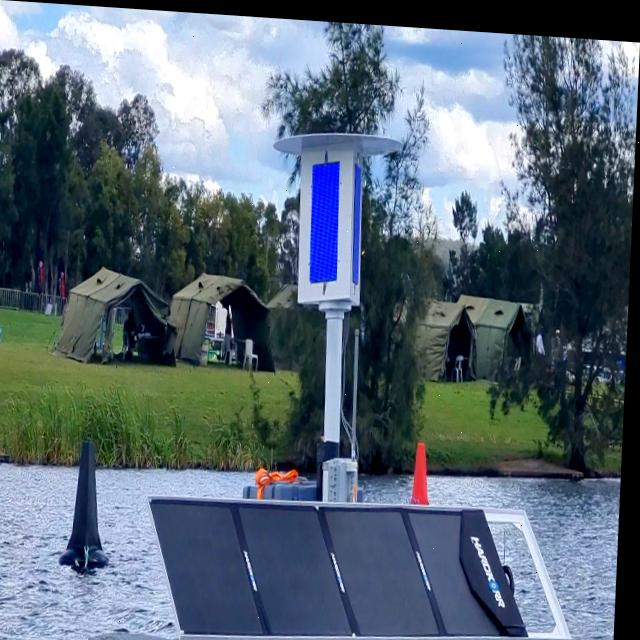led: (301, 145, 353, 293)
